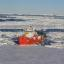fishing boat: (16, 28, 46, 47)
